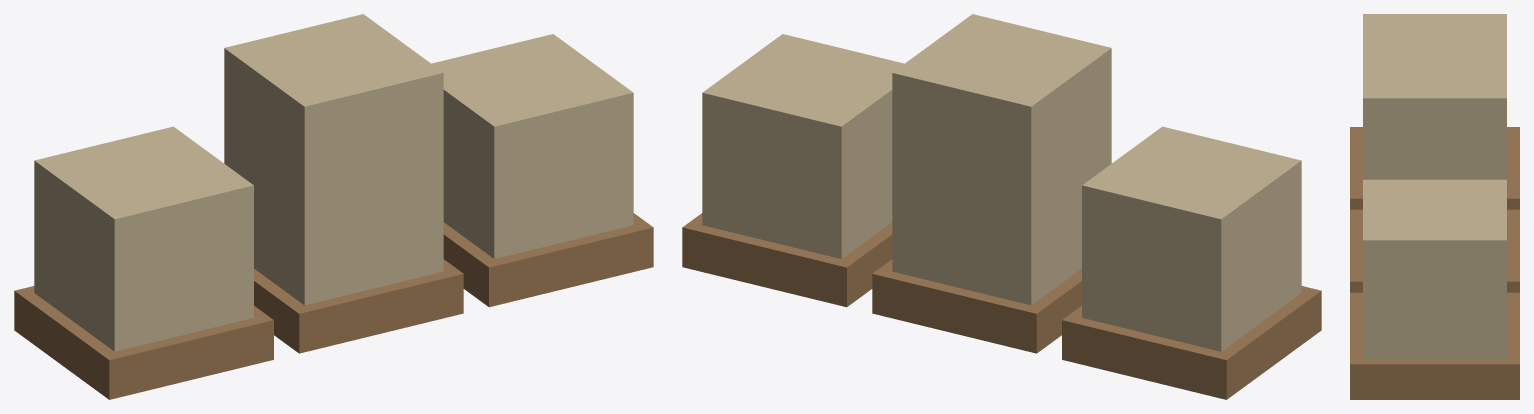
Rendered from pallet_stack.glb.
3 renders of one model, left to right at view 1: azimuth 30°, elevation 25°; view 2: azimuth 150°, elevation 25°; view 3: azimuth 270°, elevation 25°, orthographic. The views are drawn at different scales.
Parts seen in each view (by area): view 1: pallet_stack_mesh; view 2: pallet_stack_mesh; view 3: pallet_stack_mesh.
Part boxes in pixels (<box>): pallet_stack_mesh: <box>14,14,653,399</box>; pallet_stack_mesh: <box>682,14,1321,399</box>; pallet_stack_mesh: <box>1350,14,1519,399</box>.
Bounding box in the file's own units: 0.086 × 0.036 × 0.026.
